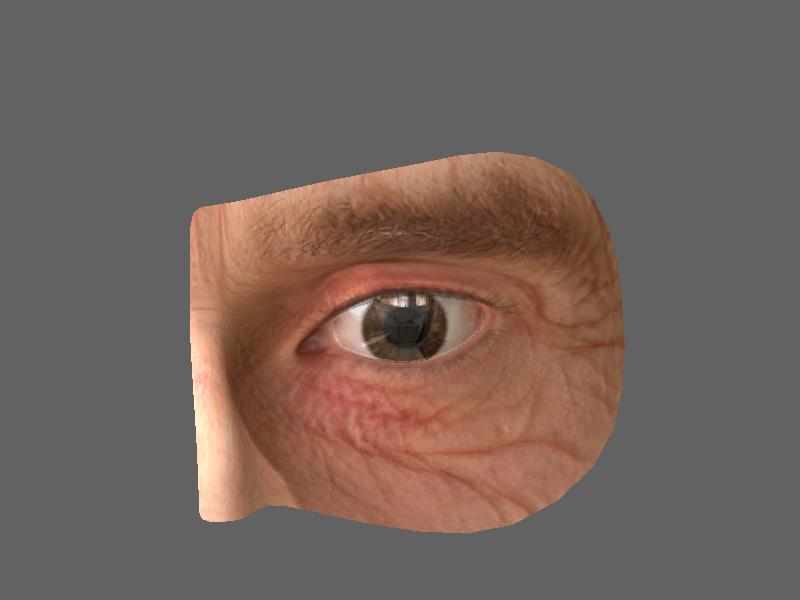iris: (361, 300, 451, 361)
